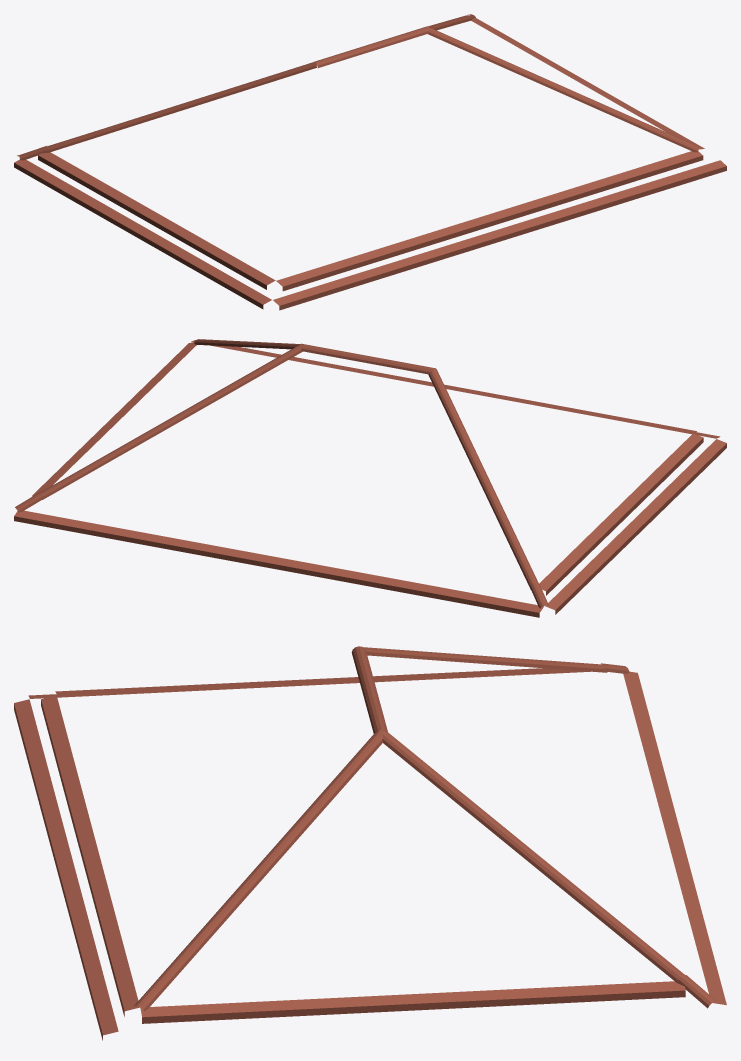
3 renders of one model, top to bottom at view 1: azimuth 30°, elevation 25°; view 2: azimuth 150°, elevation 25°; view 3: azimuth 270°, elevation 25°, orthographic. The views are drawn at different scales.
Parts seen in each view (by area): view 1: detail; view 2: detail; view 3: detail.
Boxes of the visible parts, x1,y1,x2,y2 form: detail: [14, 14, 726, 310]; detail: [14, 339, 726, 617]; detail: [14, 646, 726, 1040].
Size of the model in its own units: 17.77 by 4 by 14.52.
